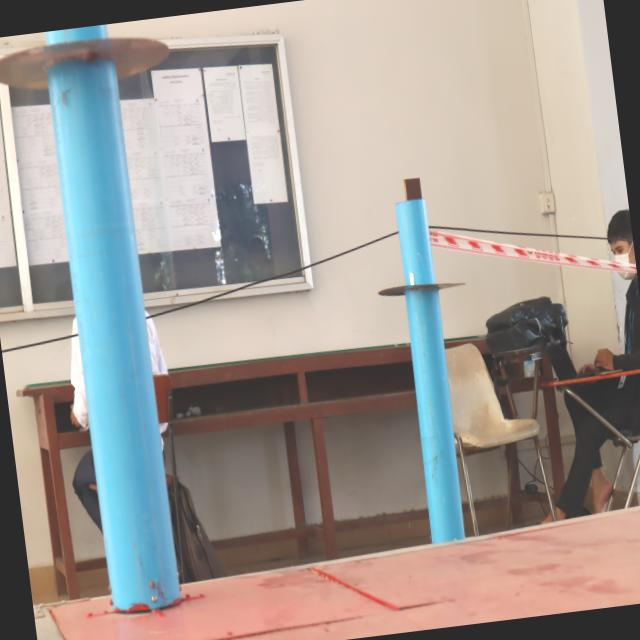pole: (0, 18, 191, 209), (361, 181, 481, 385)
